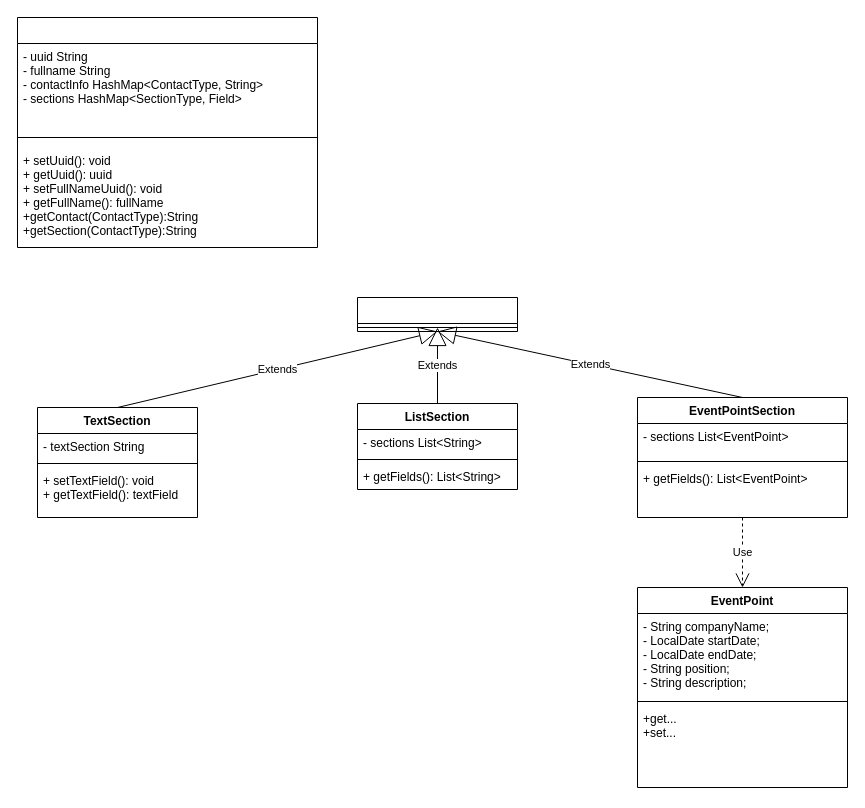
The diagram is 865 pixels wide and 808 high, and some of its shapes have lost their labels. Here are the shapes that lost their labels. From the top down, the box of each, then its label:
(16, 16, 318, 248): Resume
(356, 296, 518, 332): AbstractSection
